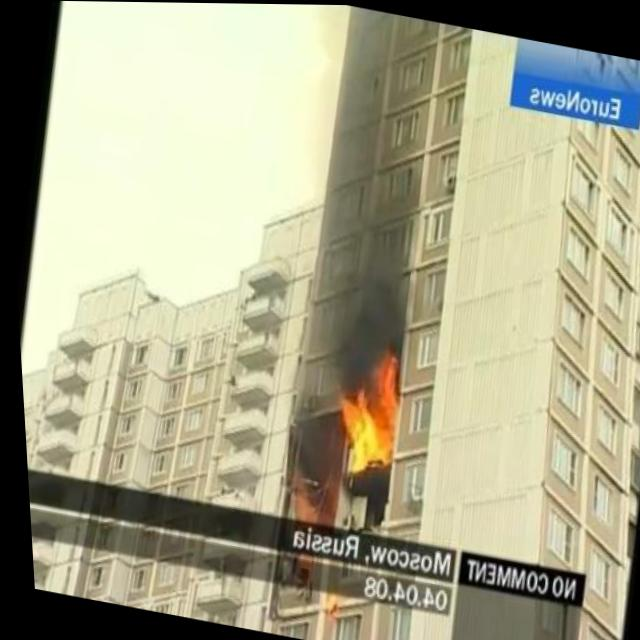fire: (319, 337, 408, 473), (273, 481, 321, 524)
